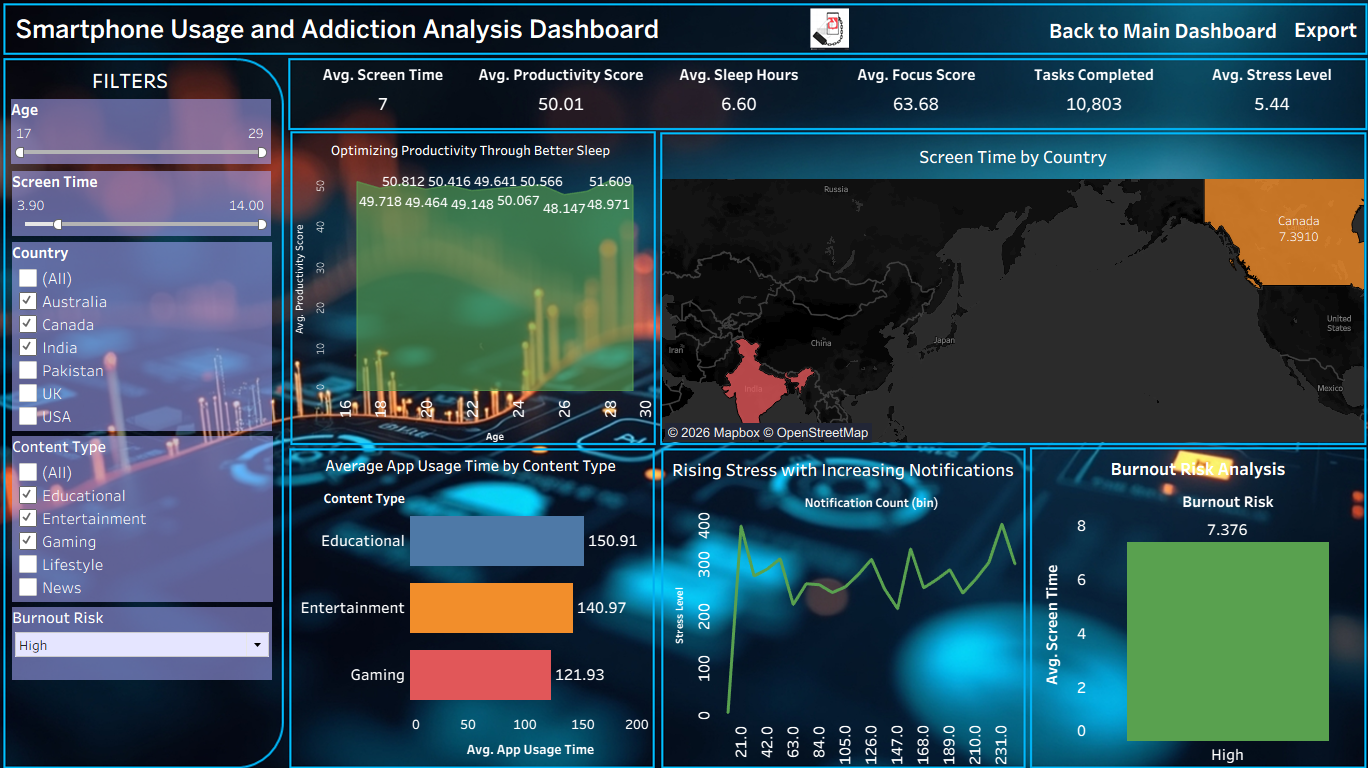

The dashboard page shown, as its layout file describes it:
{"tool":"tableau","page":{"name":"didgital_Addiction_and_productivity_dashboard (2)","canvas":[1400,800],"ordinal":1},"visuals":[{"type":"image","param":"Image/digital_addiction_bg.PNG","box":[8,8,1384,784]},{"type":"image","param":"Image/addiction.png","box":[818,21,52,42]},{"type":"dashboard-object","box":[1053,23,249,40]},{"type":"text","box":[26,27,651,30]},{"type":"worksheet","title":"KPI","mark":"Automatic","box":[308,77,1067,60]},{"type":"text","box":[94,78,100,30]},{"type":"filter","title":"Filters","param":"[federated.1l17ptl0z298e1154kmrq1arx611].[none:Age:qk]","box":[25,112,260,65]},{"type":"worksheet","title":"Optimizing Productivity Through Better Sleep","mark":"Area","rows":["Productivity Score"],"cols":["Age"],"box":[299,150,371,306]},{"type":"worksheet","title":"Screen Time by Country","mark":"Multipolygon","box":[676,153,702,302]},{"type":"filter","title":"Filters","param":"[federated.1l17ptl0z298e1154kmrq1arx611].[none:Screen Time:qk]","box":[26,184,259,65]},{"type":"filter","title":"Filters","param":"[federated.1l17ptl0z298e1154kmrq1arx611].[none:Country:nk]","box":[26,255,260,189]},{"type":"filter","title":"Filters","param":"[federated.1l17ptl0z298e1154kmrq1arx611].[none:Content Type:nk]","box":[26,449,261,166]},{"type":"worksheet","title":"Average App Usage Time by Content Type","mark":"Automatic","rows":["Content Type"],"cols":["App Usage Time"],"box":[304,464,361,314]},{"type":"worksheet","title":"Rising Stress with Increasing Notifications","mark":"Line","rows":["Stress Level"],"cols":["Notification Count (bin)"],"box":[679,466,356,313]},{"type":"worksheet","title":"Burnout Risk Analysis","mark":"Automatic","rows":["Screen Time"],"cols":["Burnout Risk"],"box":[1048,466,328,313]},{"type":"filter","title":"Filters","param":"[federated.1l17ptl0z298e1154kmrq1arx611].[none:Burnout Risk:nk]","box":[26,620,260,73]},{"type":"worksheet","title":"Filters","mark":"Automatic","box":[822,662,60,24]}]}

Visuals, with their boxes in screenshot pixels (x1, y1, x2, y2), scaled from the page's 1400x800 canvas onto the 1368x768 screenshot:
image: detection(8, 8, 1360, 760)
image: detection(799, 20, 850, 60)
dashboard-object: detection(1029, 22, 1272, 60)
text: detection(25, 26, 662, 55)
"KPI" worksheet: detection(301, 74, 1344, 132)
text: detection(92, 75, 190, 104)
"Filters" filter: detection(24, 108, 278, 170)
"Optimizing Productivity Through Better Sleep" worksheet (Area marks): detection(292, 144, 655, 438)
"Screen Time by Country" worksheet (Multipolygon marks): detection(661, 147, 1347, 437)
"Filters" filter: detection(25, 177, 278, 239)
"Filters" filter: detection(25, 245, 279, 426)
"Filters" filter: detection(25, 431, 280, 590)
"Average App Usage Time by Content Type" worksheet: detection(297, 445, 650, 747)
"Rising Stress with Increasing Notifications" worksheet (Line marks): detection(663, 447, 1011, 748)
"Burnout Risk Analysis" worksheet: detection(1024, 447, 1345, 748)
"Filters" filter: detection(25, 595, 279, 665)
"Filters" worksheet: detection(803, 636, 862, 659)
